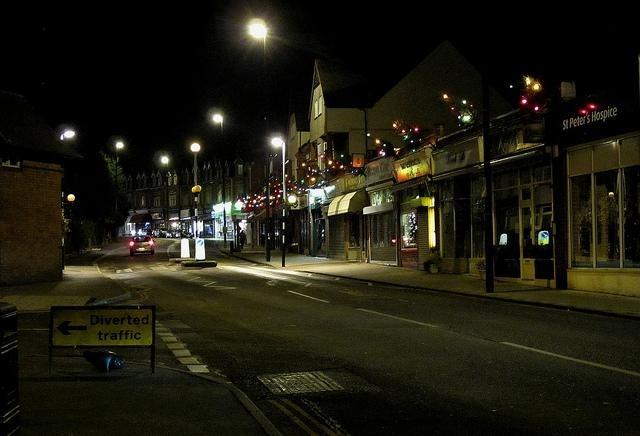car: (129, 235, 157, 256), (160, 225, 173, 238)
